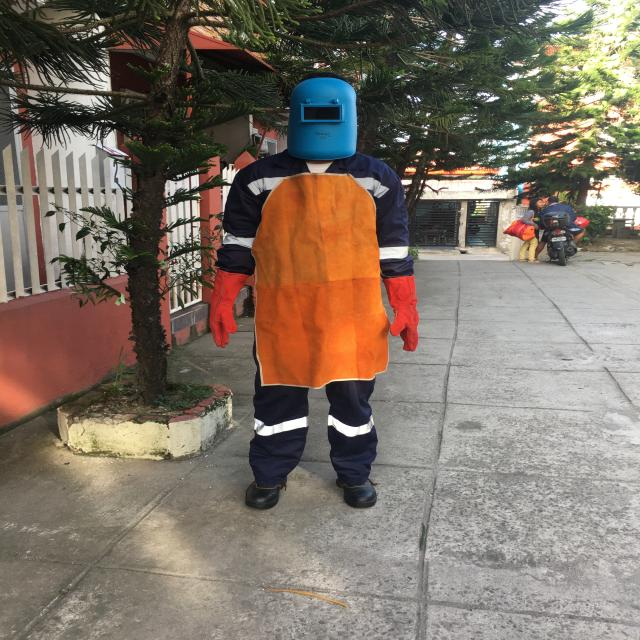with_helmet: (288, 77, 357, 160)
